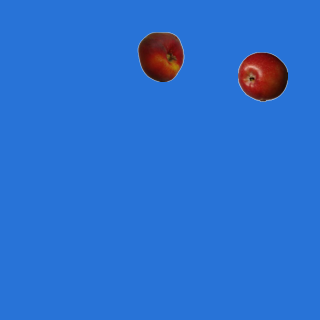Apple Braeburn: (237, 51, 287, 101)
Nectarine Flat: (135, 31, 185, 81)
